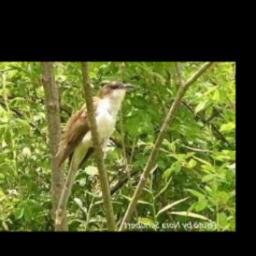Cuckoo: (55, 82, 136, 167)
